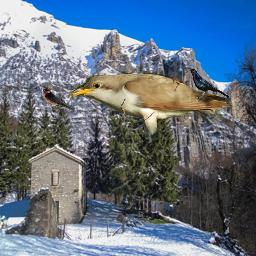Crow: (188, 68, 230, 100)
Cuckoo: (68, 71, 233, 150)
Swallow: (43, 87, 75, 110)
